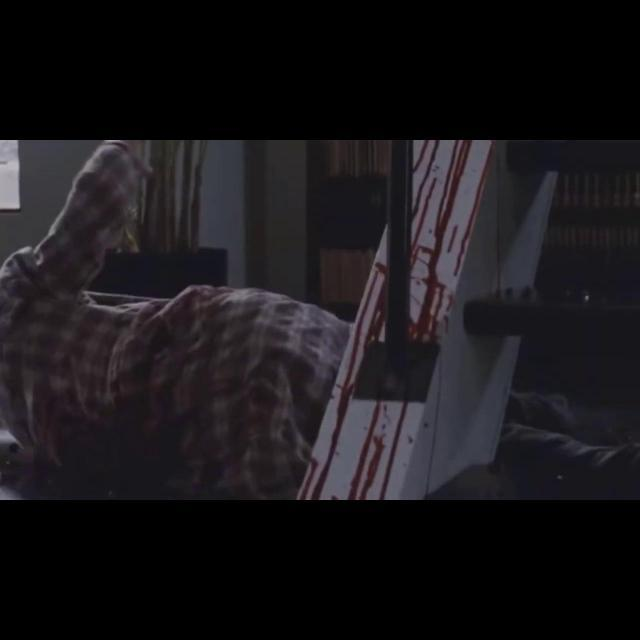blood: (294, 140, 505, 500)
